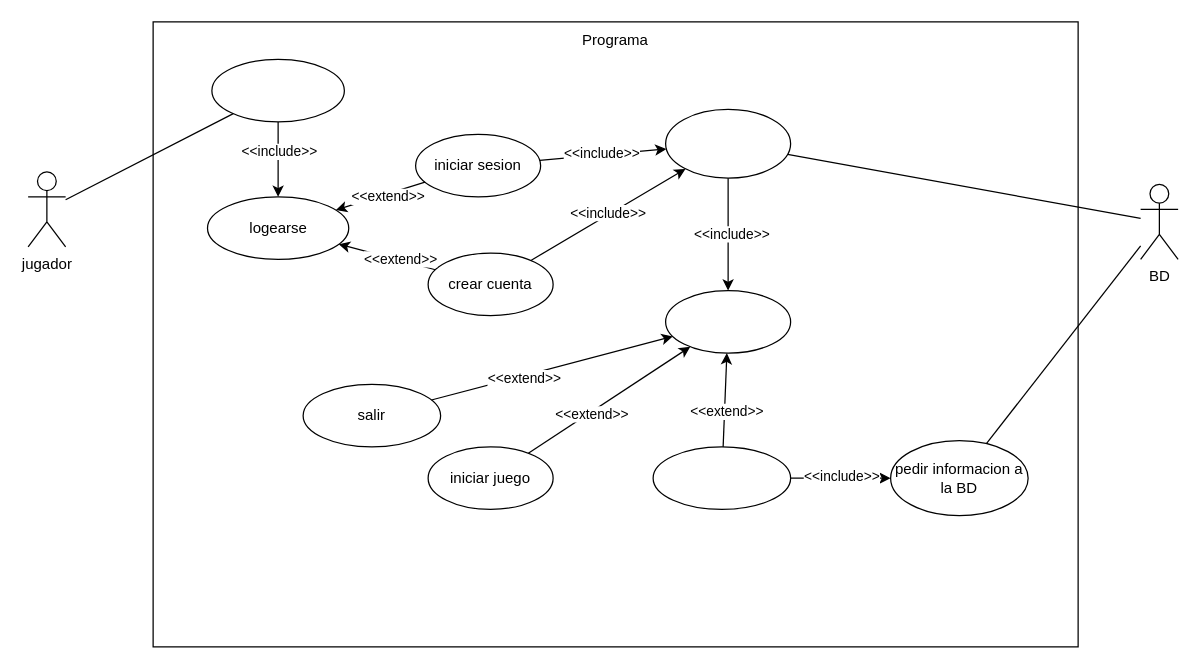
Some shapes in this 1200 by 669 pixel diagram are drawn without their labels. The shapes that lost their labels are listed below. From the top down, each one's centre as x and y in pixels, then its label:
At (x=277, y=90): "Inicio".
At (x=727, y=143): "verificar informacion BD".
At (x=727, y=321): "iniciar menu".
At (x=721, y=477): "ver top".
